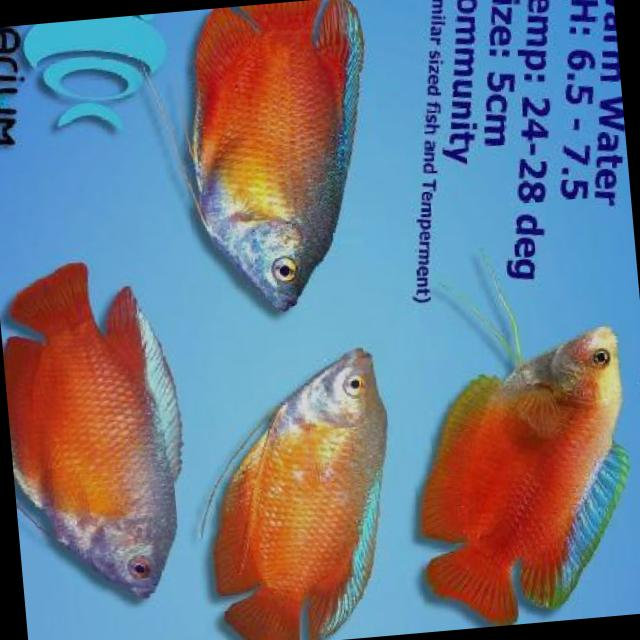Gourami: (392, 313, 640, 630), (0, 251, 207, 609), (170, 0, 393, 325), (188, 341, 410, 640)
